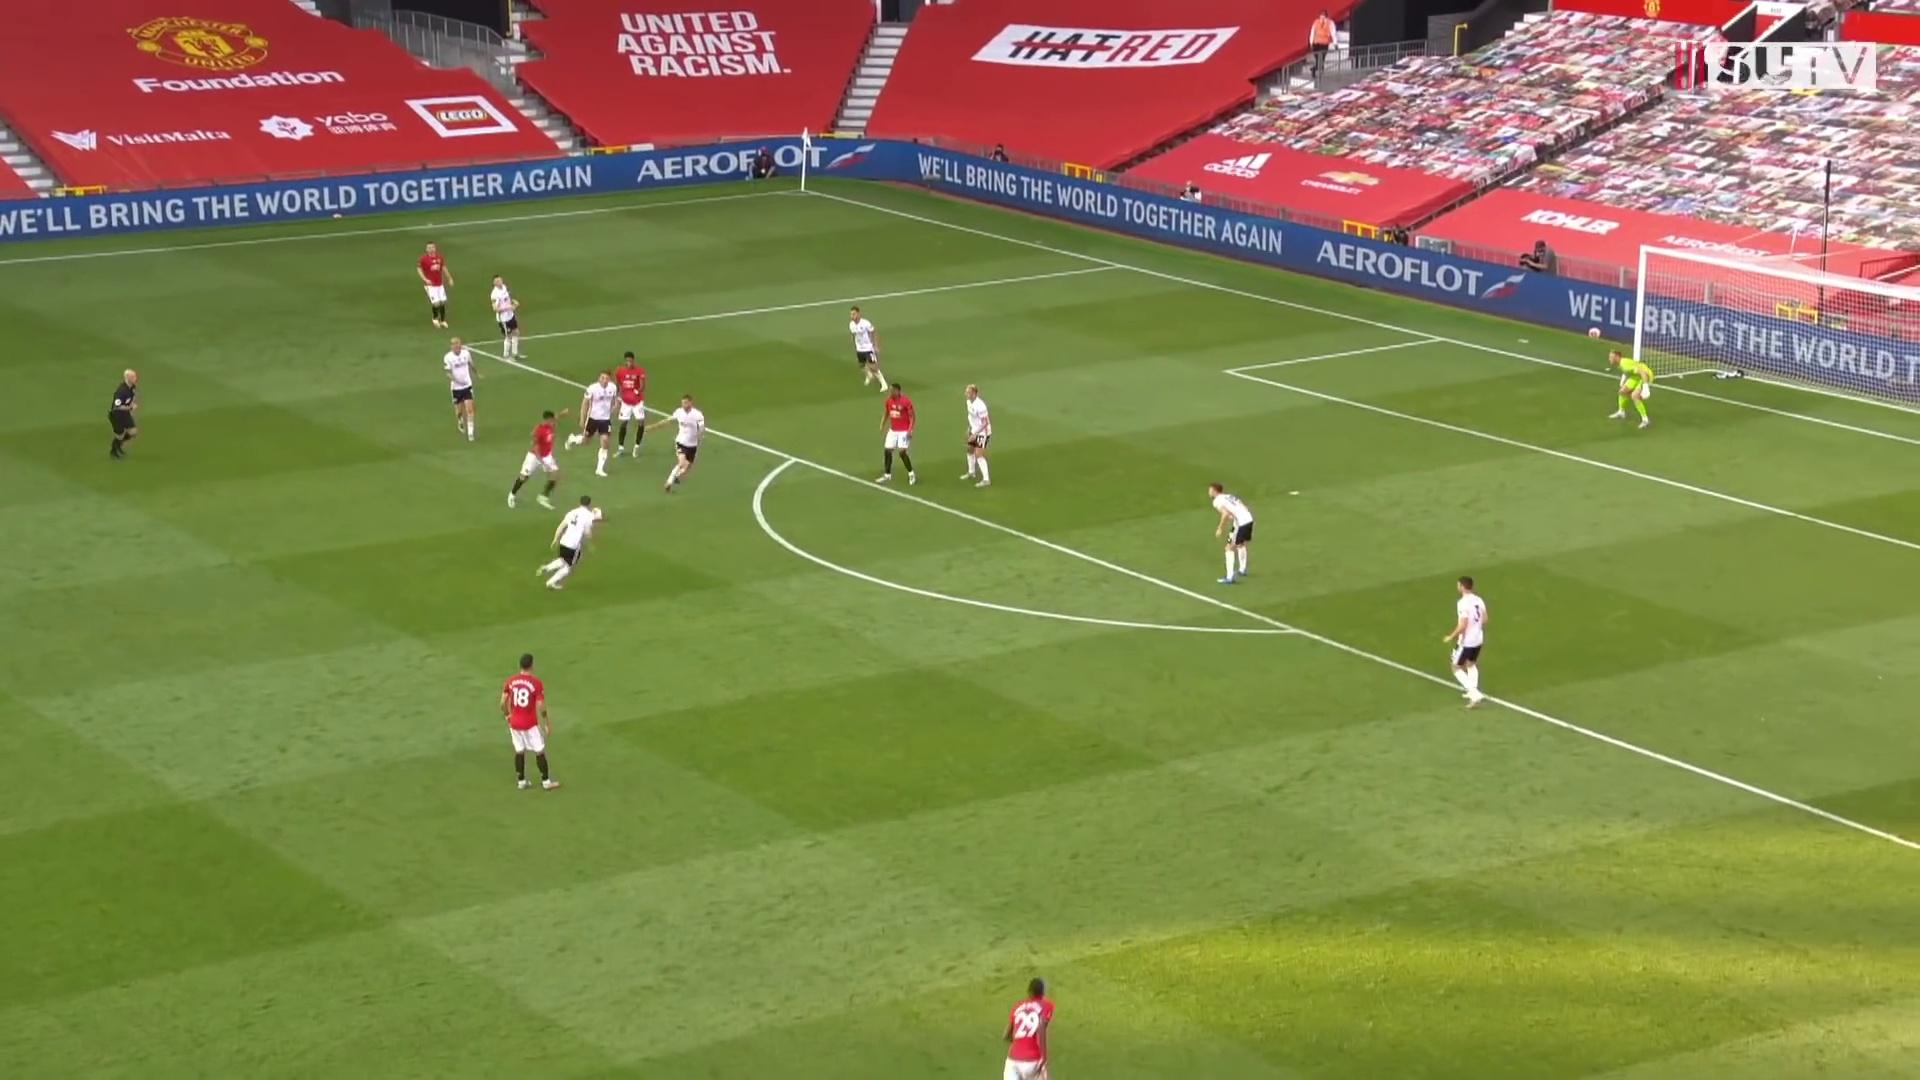ball: (591, 506, 605, 524), (1588, 328, 1601, 340)
goalkeeper: (1605, 345, 1660, 430)
player: (498, 651, 567, 797), (991, 976, 1074, 1080), (535, 495, 612, 600), (1441, 574, 1493, 713), (508, 404, 573, 513), (642, 392, 706, 497), (567, 366, 628, 475), (1204, 476, 1260, 585), (873, 380, 921, 488), (439, 335, 484, 446), (961, 382, 1006, 491), (844, 305, 892, 397), (611, 348, 650, 460), (414, 238, 458, 332), (488, 274, 530, 365)
referee: (103, 364, 145, 468)
